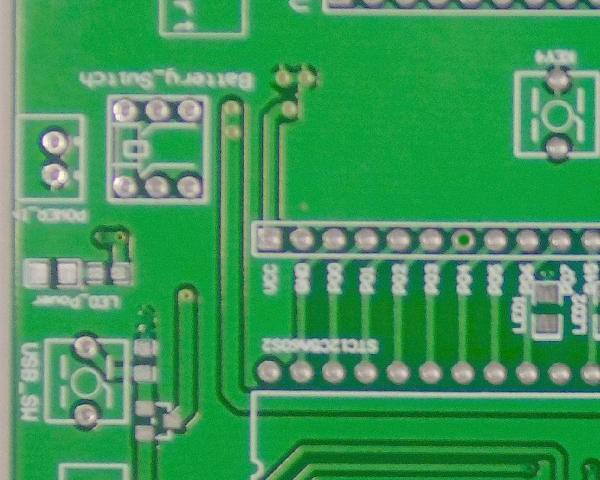missing hole: (448, 223, 481, 255)
